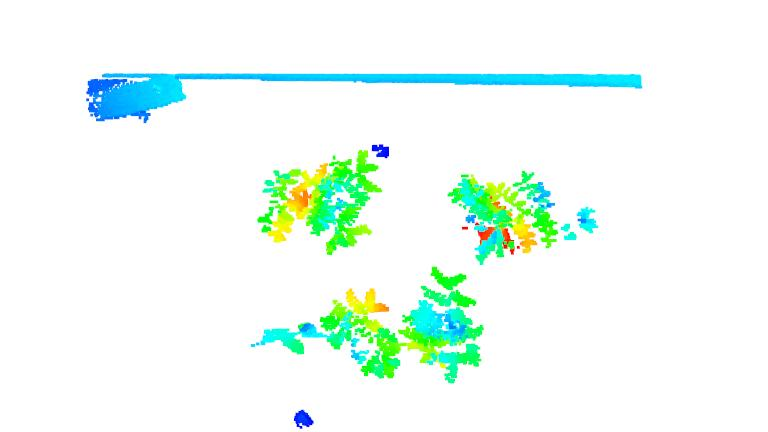chickpea: (455, 165, 601, 260), (401, 266, 487, 383), (320, 287, 402, 380), (310, 149, 377, 257), (253, 152, 327, 242), (248, 309, 332, 370)
